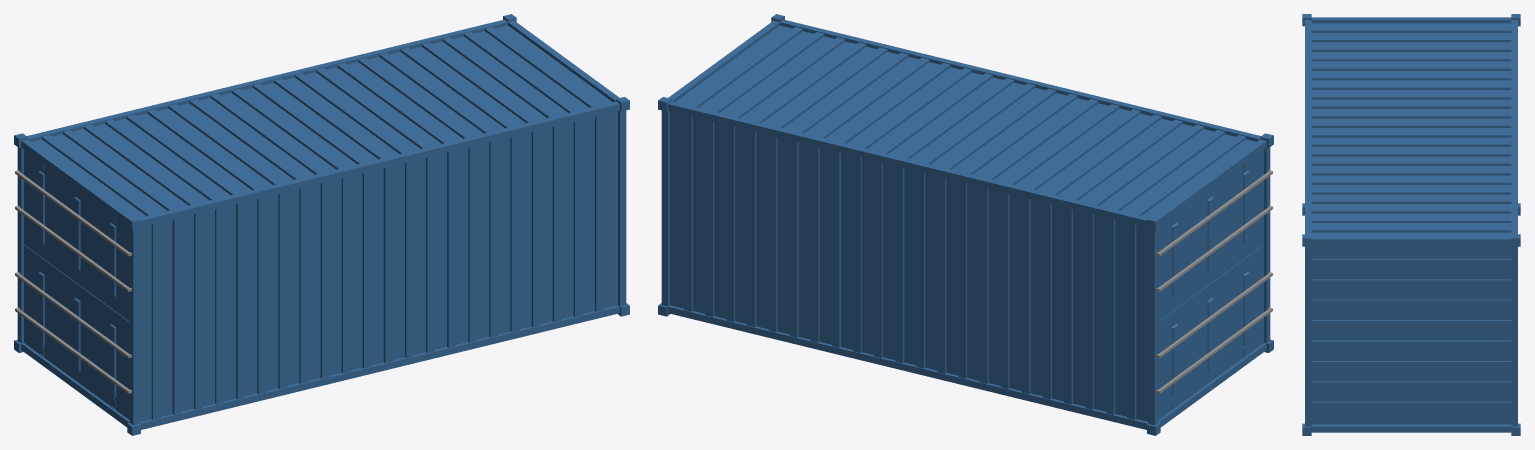
The model's file is Container_Blue.fbx.
The picture shows the model from 3 angles, left to right: view 1: azimuth 30°, elevation 25°; view 2: azimuth 150°, elevation 25°; view 3: azimuth 270°, elevation 25°; orthographic projection. The views are drawn at different scales.
Parts seen in each view (by area): view 1: Container_Blue; view 2: Container_Blue; view 3: Container_Blue.
Boxes of the visible parts, x1=… form: Container_Blue: x1=14, y1=14, x2=629, y2=435; Container_Blue: x1=658, y1=14, x2=1273, y2=435; Container_Blue: x1=1302, y1=14, x2=1520, y2=435.
Bounding box in the file's own units: 6.21 × 2.54 × 2.54.
